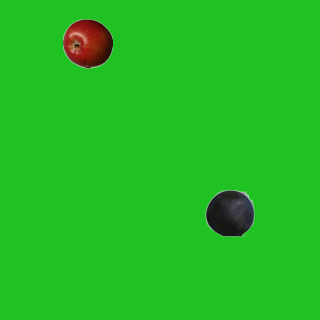Apple Braeburn: (62, 18, 112, 68)
Grape Blue: (204, 187, 254, 237)
